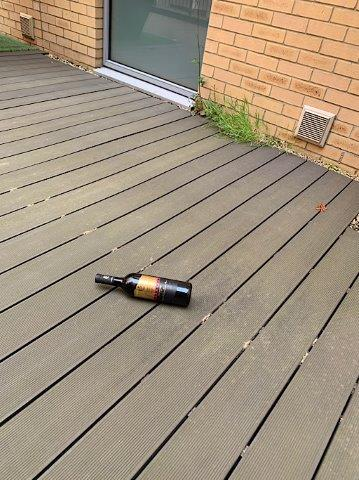botolkaca: (94, 271, 193, 309)
